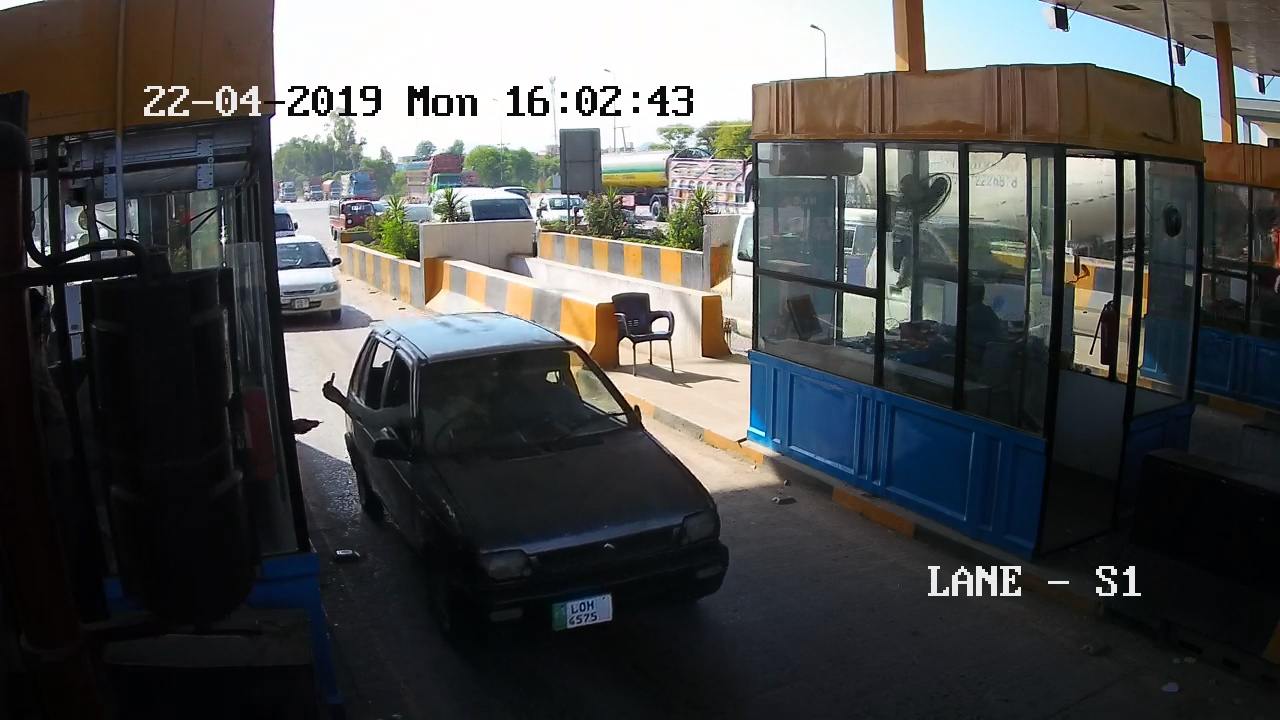Number Plate (Car): (549, 594, 612, 627)
